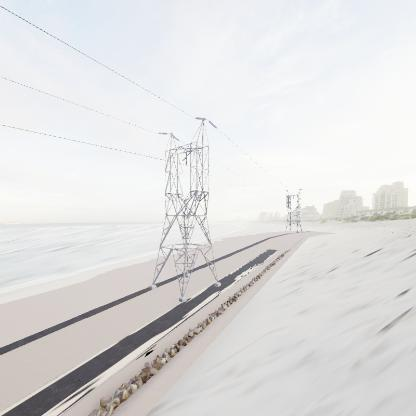tower: (149, 113, 221, 307)
